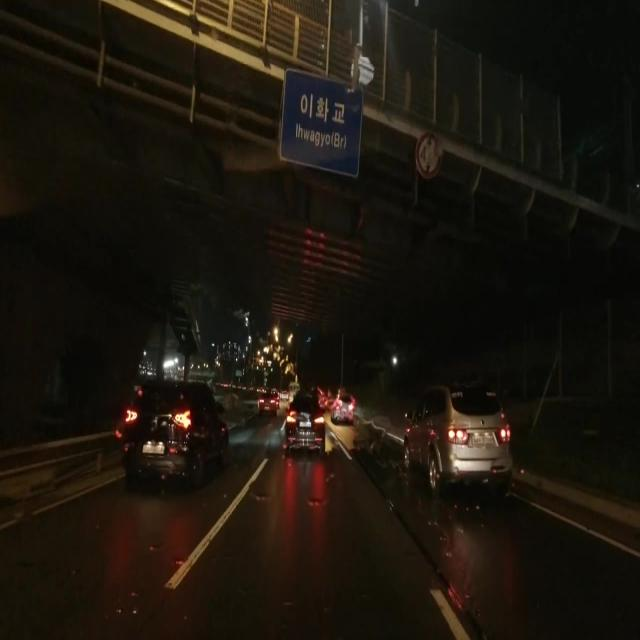Car: (400, 380, 512, 494), (124, 378, 225, 494), (283, 397, 327, 457), (330, 393, 354, 423)
